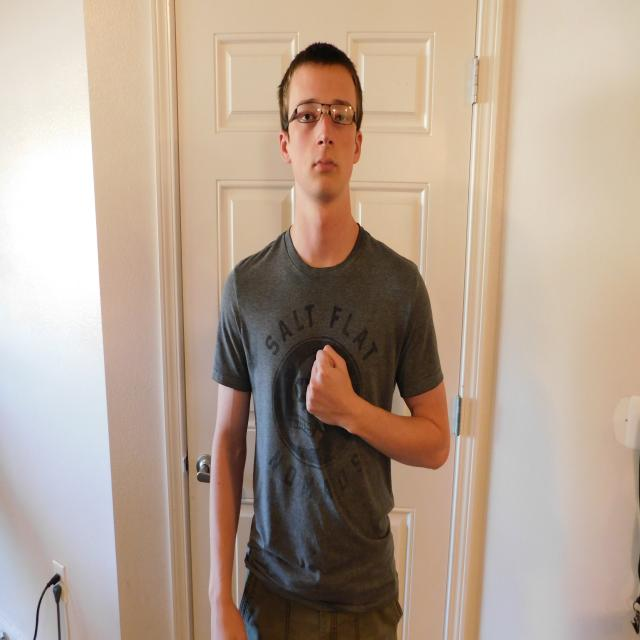sorry: (307, 344, 353, 426)
